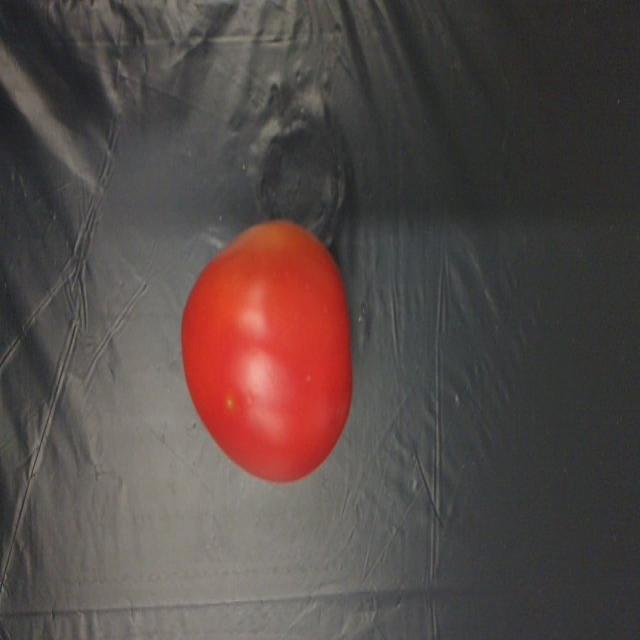kirmizi: (156, 185, 390, 518)
